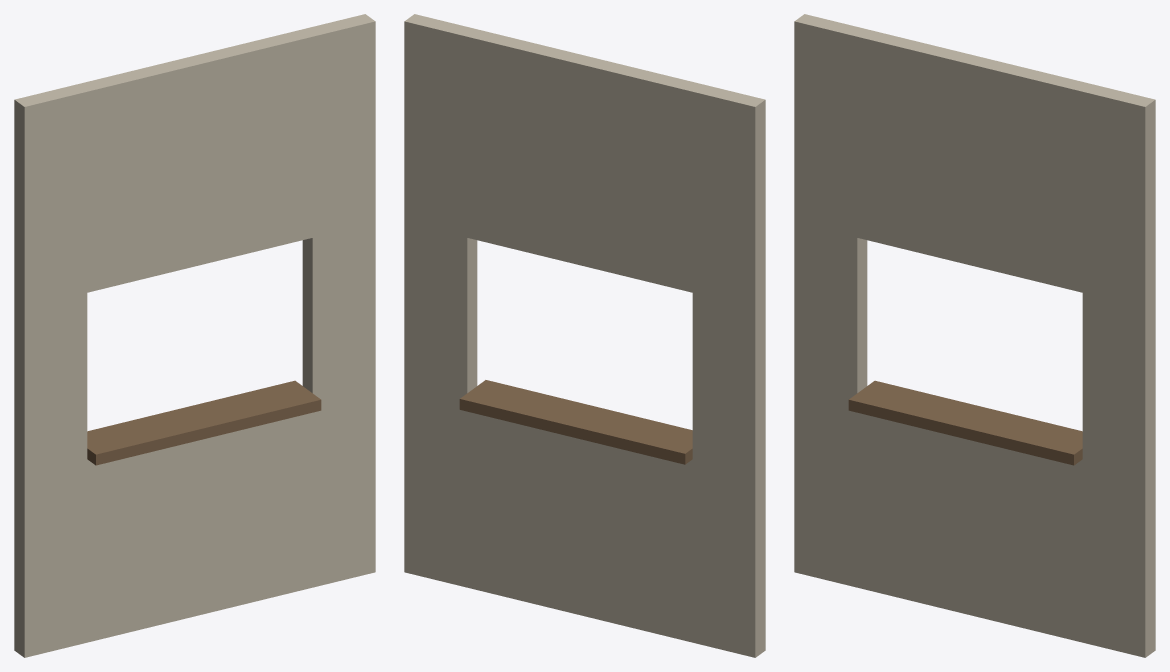
Rendered from Mesh_Wall_A3.fbx.
3 renders of one model, left to right at view 1: azimuth 30°, elevation 25°; view 2: azimuth 150°, elevation 25°; view 3: azimuth 330°, elevation 25°, orthographic.
Parts seen in each view (by area): view 1: Mesh_Wall_A3; view 2: Mesh_Wall_A3; view 3: Mesh_Wall_A3.
Part boxes in pixels (x1=…): Mesh_Wall_A3: x1=14, y1=14, x2=375, y2=657; Mesh_Wall_A3: x1=404, y1=14, x2=765, y2=657; Mesh_Wall_A3: x1=794, y1=14, x2=1155, y2=657.
Size of the model in its own units: 2 by 3 by 0.2574.
